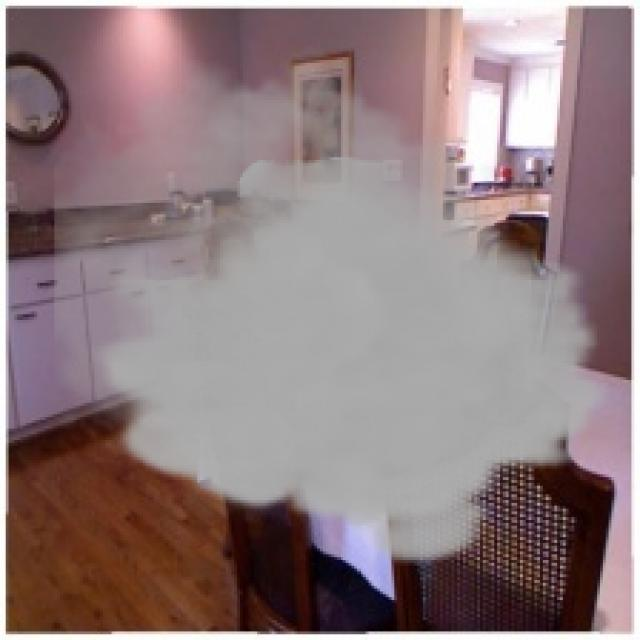smoke: (54, 43, 612, 568)
